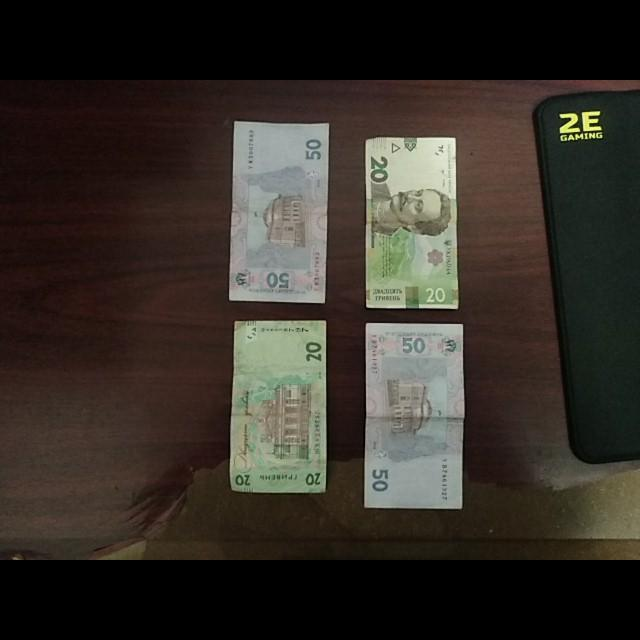20uah: (229, 321, 326, 492), (365, 138, 459, 310)
50uah: (364, 324, 465, 511), (231, 121, 328, 304)
